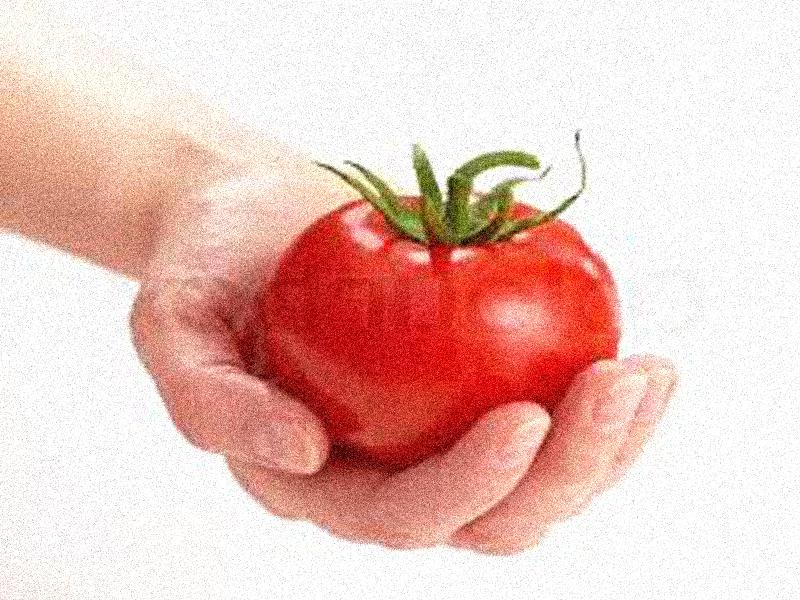Tomato: (269, 190, 620, 465)
